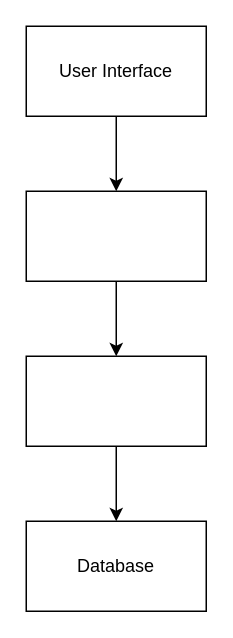
The diagram is 233 pixels wide and 638 high, and some of its shapes have lost their labels. Each missing label, with the centre of its shape:
"Business Logic Layer" goes at [115,235].
"Data Access Layer" goes at [115,400].
